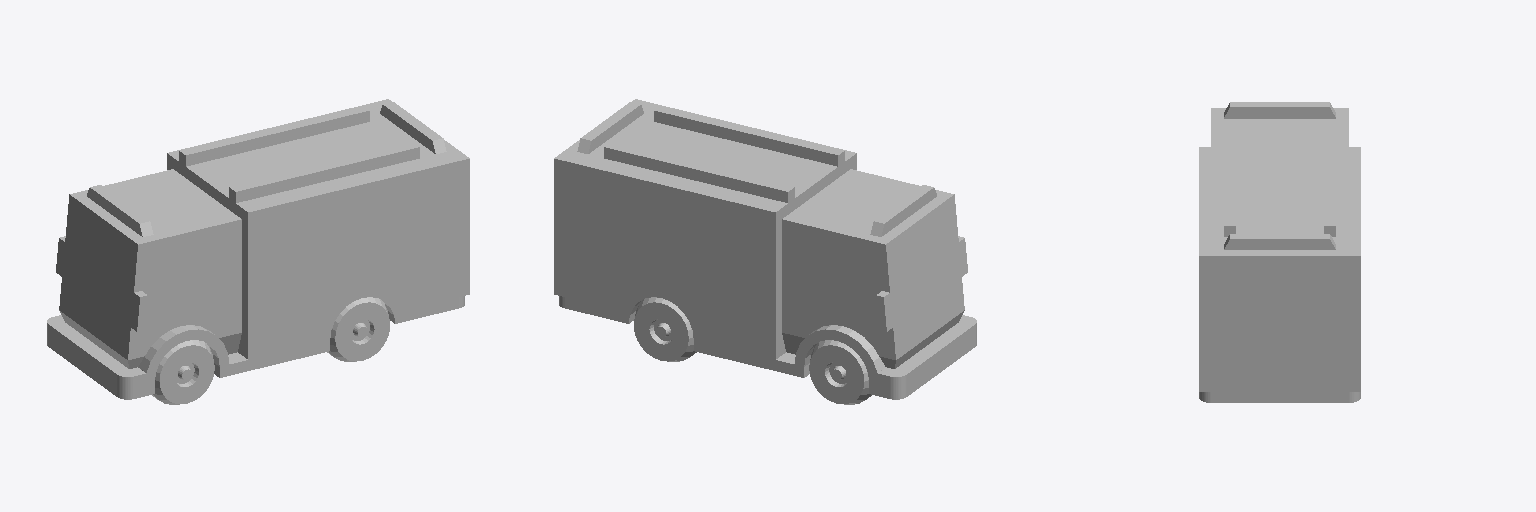
Rendered from firetruck.obj.
The picture shows the model from 3 angles: view 1: azimuth 30°, elevation 25°; view 2: azimuth 150°, elevation 25°; view 3: azimuth 270°, elevation 25°; orthographic projection.
Parts seen in each view (by area): view 1: body, wheel_backLeft, wheel_frontLeft; view 2: body, wheel_backRight, wheel_frontRight; view 3: body.
Part boxes in pixels (bbox=[...]): body: bbox=[47, 99, 469, 399]; wheel_backLeft: bbox=[327, 297, 389, 361]; wheel_frontLeft: bbox=[152, 340, 214, 404]; body: bbox=[554, 99, 976, 399]; wheel_backRight: bbox=[634, 297, 696, 361]; wheel_frontRight: bbox=[809, 340, 871, 404]; body: bbox=[1199, 102, 1360, 402].
Bounding box in the file's own units: 2.4 × 1.27 × 0.975.